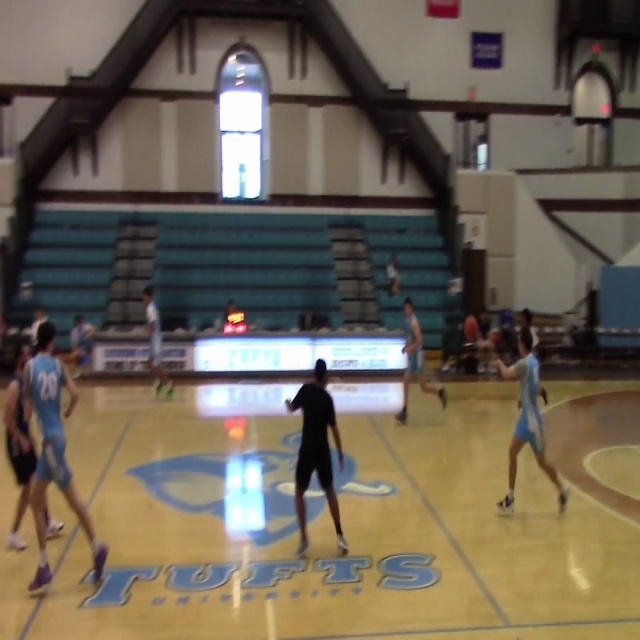Basketball: (464, 315, 479, 341)
